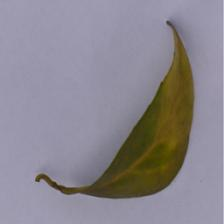greening: (144, 10, 210, 148)
